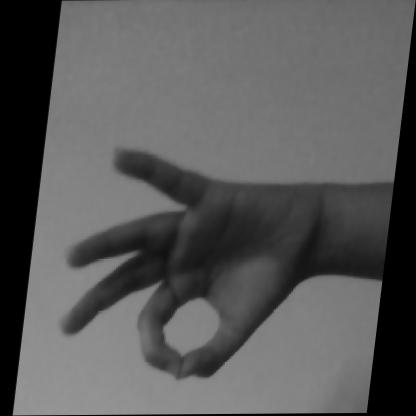ok: (48, 117, 358, 408)
